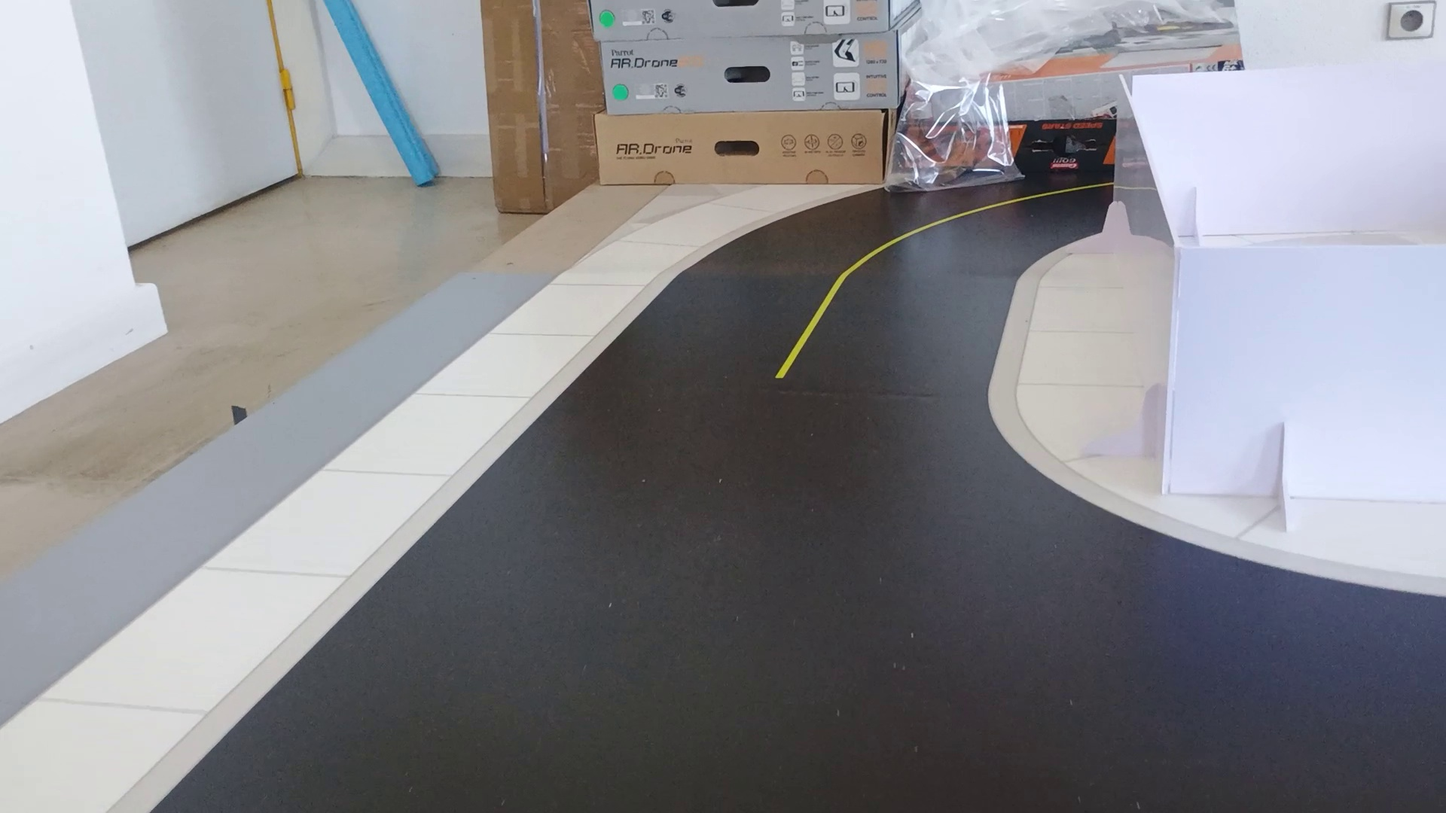Solid: (776, 183, 1112, 379)
Street: (157, 177, 1445, 812)
